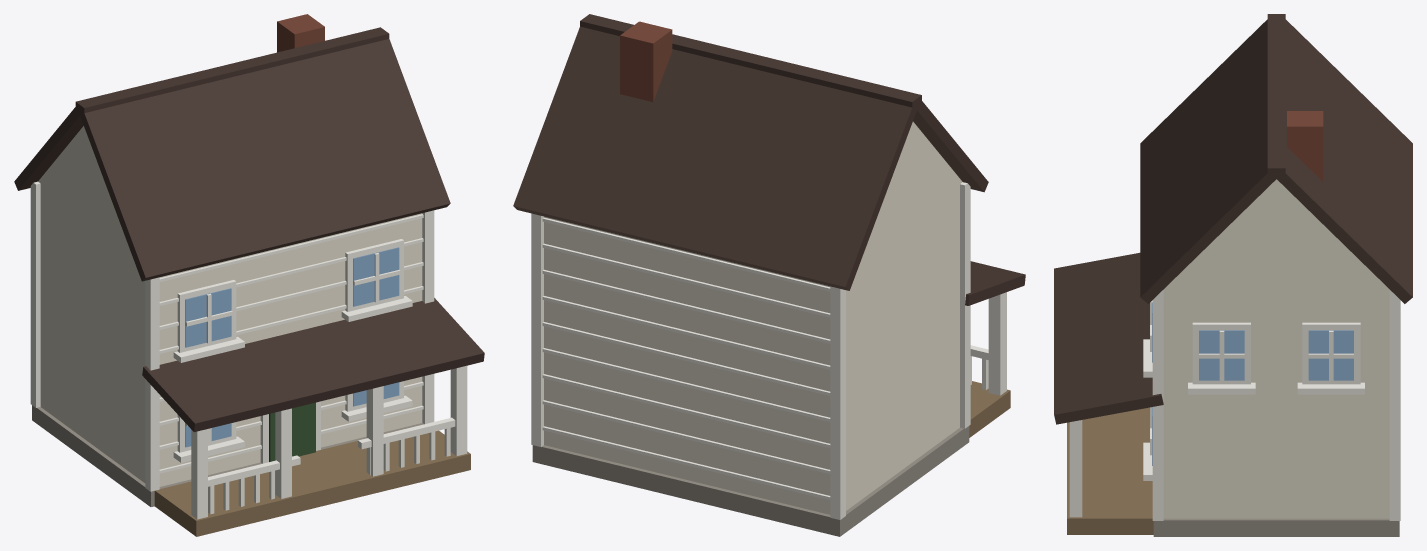
The model's file is farmhouse.glb.
3 renders of one model, left to right at view 1: azimuth 30°, elevation 25°; view 2: azimuth 150°, elevation 25°; view 3: azimuth 270°, elevation 25°, orthographic. The views are drawn at different scales.
Parts seen in each view (by area): view 1: part-roof, part-walls, part-trim, part-deck, part-glass, part-stone, part-door, part-brick; view 2: part-walls, part-roof, part-trim, part-stone, part-brick, part-deck; view 3: part-roof, part-walls, part-trim, part-deck, part-stone, part-glass, part-brick.
Part boxes in pixels (x1=…): part-roof: x1=14, y1=27, x2=484, y2=432; part-walls: x1=38, y1=126, x2=422, y2=486; part-trim: x1=30, y1=181, x2=467, y2=519; part-deck: x1=154, y1=430, x2=470, y2=536; part-glass: x1=185, y1=247, x2=399, y2=447; part-stone: x1=32, y1=405, x2=423, y2=506; part-door: x1=269, y1=402, x2=315, y2=461; part-brick: x1=277, y1=14, x2=324, y2=52; part-walls: x1=544, y1=121, x2=962, y2=514; part-roof: x1=513, y1=14, x2=1025, y2=305; part-trim: x1=531, y1=182, x2=1006, y2=519; part-stone: x1=532, y1=426, x2=969, y2=536; part-brick: x1=620, y1=21, x2=672, y2=101; part-deck: x1=969, y1=381, x2=1010, y2=437; part-roof: x1=1054, y1=14, x2=1412, y2=424; part-walls: x1=1163, y1=179, x2=1389, y2=518; part-trim: x1=1069, y1=290, x2=1400, y2=520; part-deck: x1=1067, y1=407, x2=1153, y2=534; part-stone: x1=1153, y1=518, x2=1399, y2=536; part-glass: x1=1152, y1=302, x2=1353, y2=465; part-brick: x1=1287, y1=111, x2=1323, y2=181.
Size of the model in its own units: 88 by 103 by 86.55.
